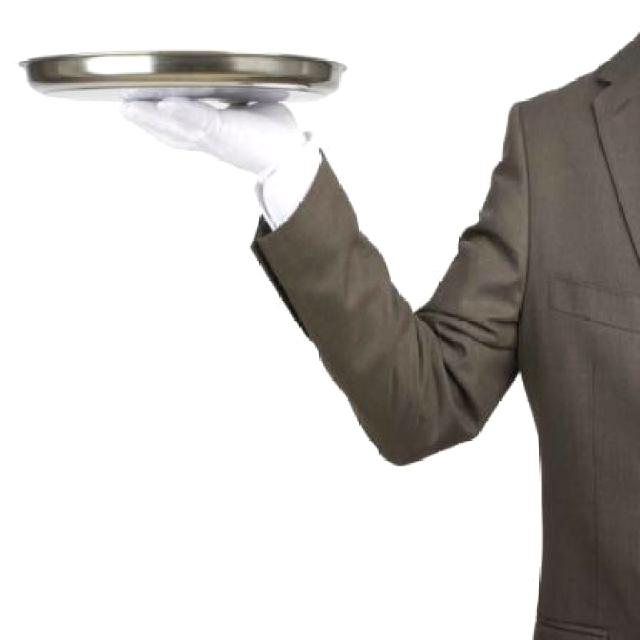hand_glove: (117, 90, 306, 168)
